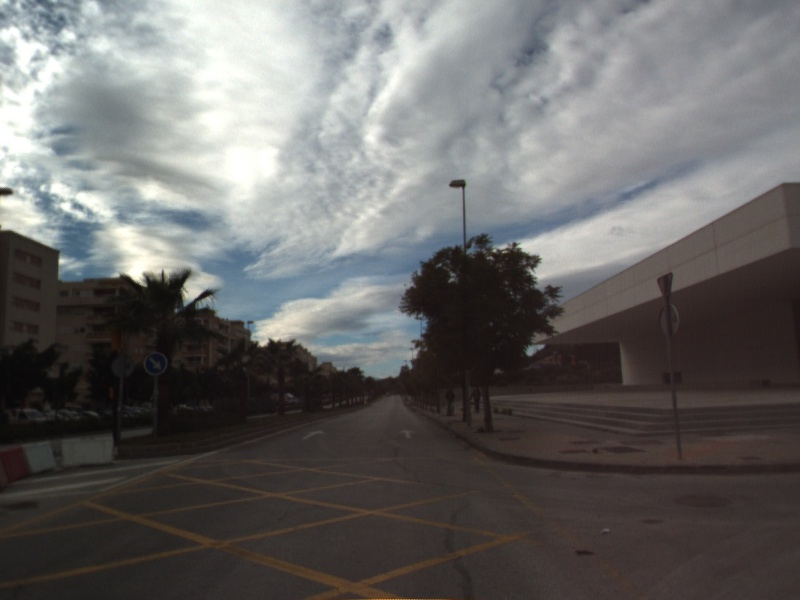STRAIGHT: (300, 428, 326, 441), (396, 427, 418, 441)
